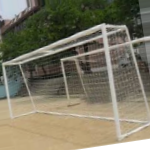goals: (1, 22, 150, 139)
